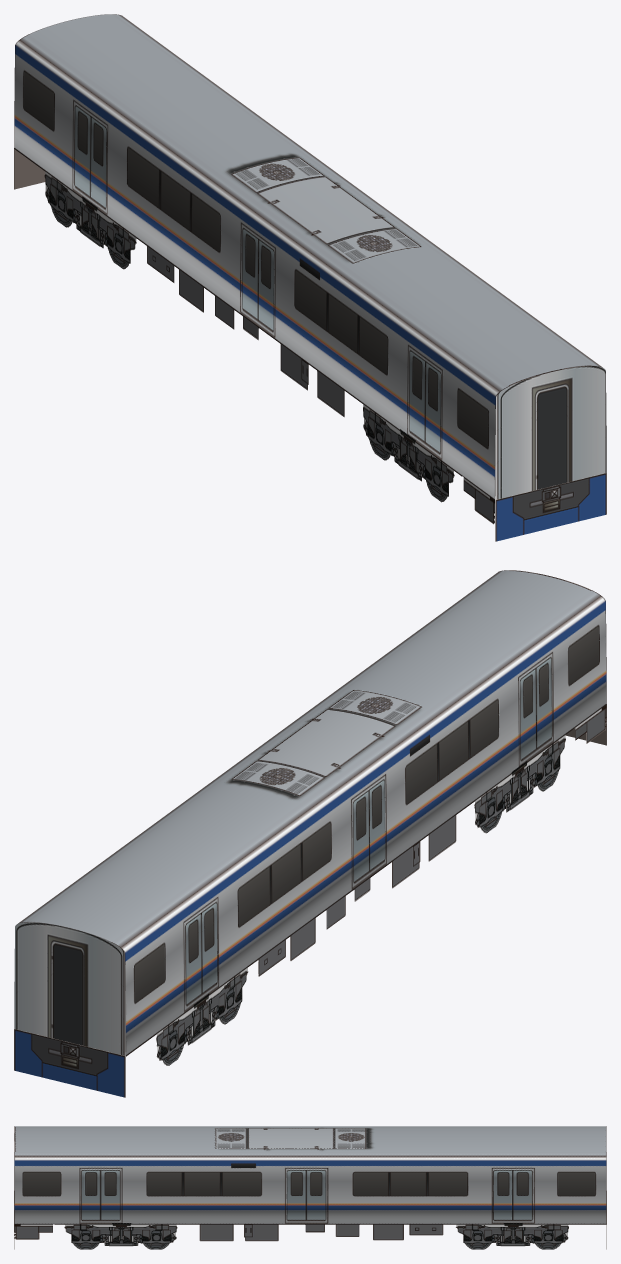
File: car2.glb
3 views of the same model, one above another, from view 1: azimuth 30°, elevation 25°; view 2: azimuth 150°, elevation 25°; view 3: azimuth 270°, elevation 25° (orthographic). The views are drawn at different scales.
Parts seen in each view (by area): view 1: nisitetu-3000-car2; view 2: nisitetu-3000-car2; view 3: nisitetu-3000-car2.
Part boxes in pixels (x1,y1,x2,y2): nisitetu-3000-car2: [14, 14, 606, 541]; nisitetu-3000-car2: [14, 570, 606, 1097]; nisitetu-3000-car2: [14, 1126, 606, 1249].
Bounding box in the file's own units: 2.77 × 3.69 × 20.71.
Materials: 8 (7 with a texture image).
